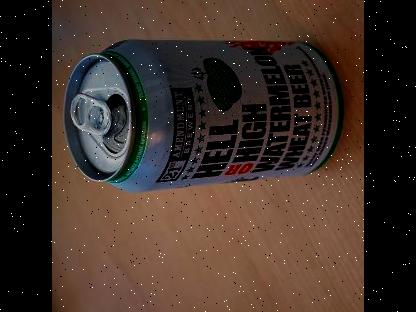Can: (66, 35, 344, 191)
